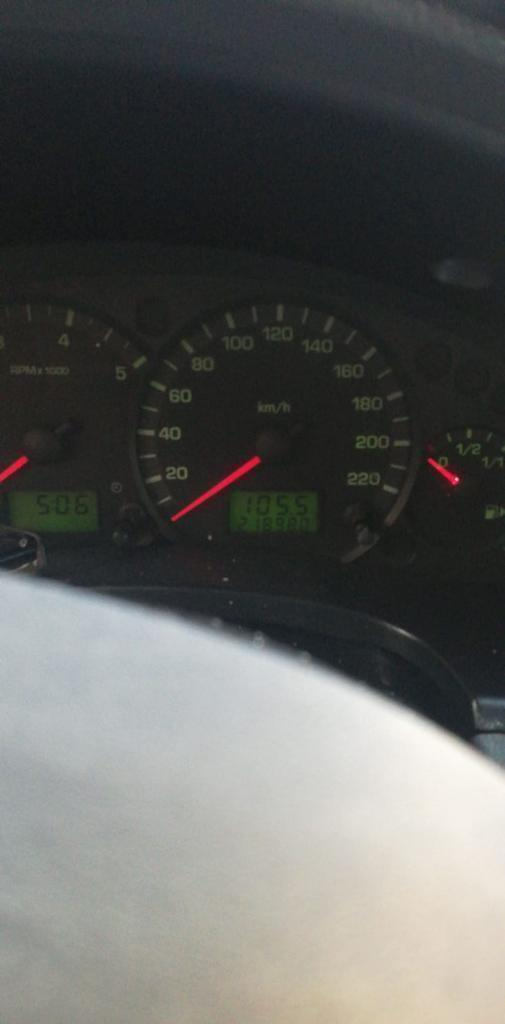,: (289, 509, 293, 517)
0: (255, 493, 271, 515), (298, 518, 309, 533)
1: (244, 494, 253, 514), (253, 515, 260, 534)
2: (236, 515, 248, 533)
5: (293, 493, 309, 517), (274, 493, 289, 516)
8: (261, 516, 272, 533), (286, 517, 297, 533)
9: (274, 517, 284, 533)
odometer: (222, 488, 324, 538)
